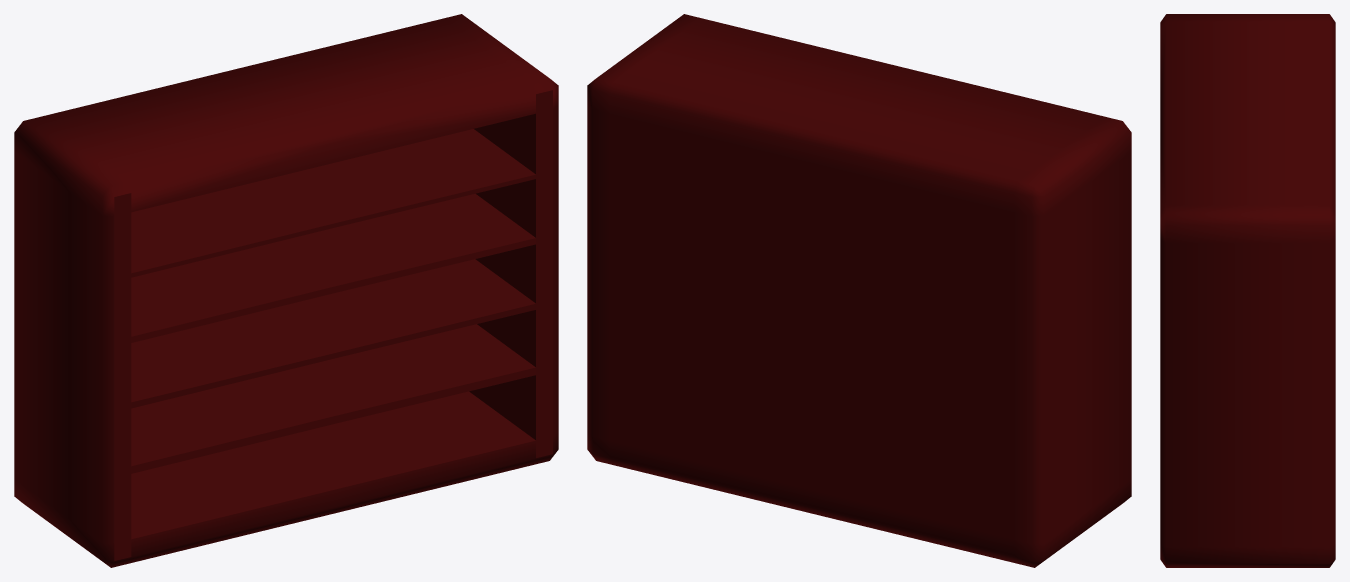
Rendered from etagere.fbx.
3 renders of one model, left to right at view 1: azimuth 30°, elevation 25°; view 2: azimuth 150°, elevation 25°; view 3: azimuth 270°, elevation 25°, orthographic. The views are drawn at different scales.
Parts seen in each view (by area): view 1: EtagereReserve; view 2: EtagereReserve; view 3: EtagereReserve.
Part boxes in pixels (x1,y1,x2,y2): EtagereReserve: (14,14,558,567); EtagereReserve: (587,14,1131,567); EtagereReserve: (1160,14,1335,567).
Bounding box in the file's own units: 357 × 286 × 128.
